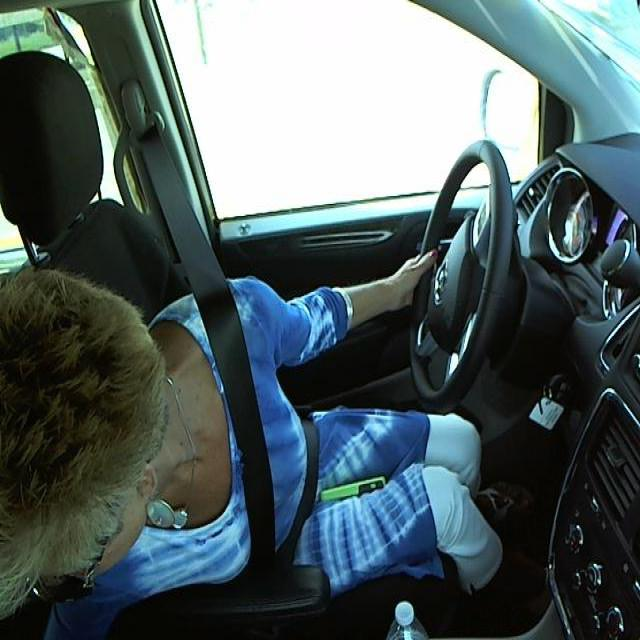seatbelt: (197, 304, 337, 556)
